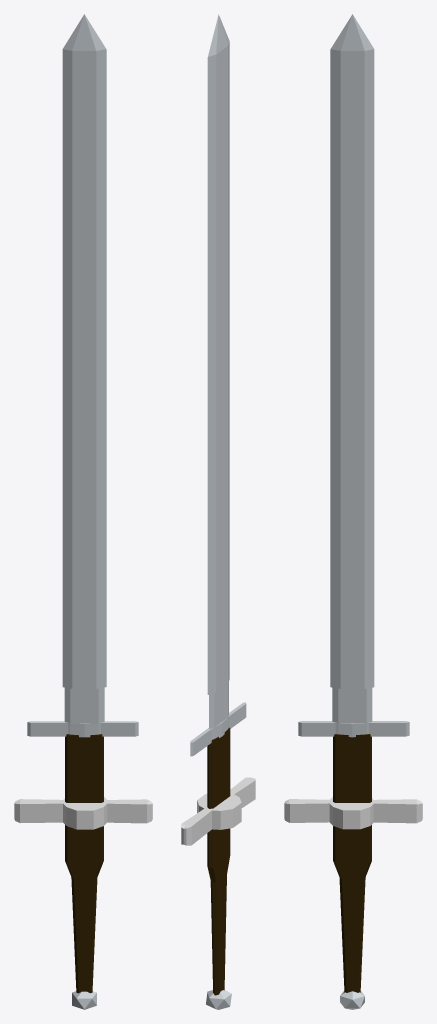
File: two-handed sword.fbx
3 views of the same model, side by side, from view 1: azimuth 90°, elevation 25°; view 2: azimuth 150°, elevation 25°; view 3: azimuth 270°, elevation 25° (orthographic).
Parts seen in each view (by area): view 1: Cube, Cube.001, Цилиндр.001, Icosphere; view 2: Cube, Cube.001, Цилиндр.001, Icosphere; view 3: Cube, Cube.001, Цилиндр.001, Icosphere.
Boxes of the visible parts, bbox=[...] form: Cube: bbox=[27, 14, 138, 737]; Cube.001: bbox=[65, 734, 103, 993]; Цилиндр.001: bbox=[14, 797, 152, 829]; Icosphere: bbox=[72, 991, 96, 1009]; Cube: bbox=[190, 14, 246, 756]; Cube.001: bbox=[207, 727, 230, 995]; Цилиндр.001: bbox=[181, 777, 255, 845]; Icosphere: bbox=[206, 990, 231, 1009]; Cube: bbox=[298, 14, 409, 737]; Cube.001: bbox=[333, 734, 371, 992]; Цилиндр.001: bbox=[284, 797, 422, 829]; Icosphere: bbox=[340, 991, 364, 1009].
Size of the model in its own units: 32.74 by 864 by 109.
